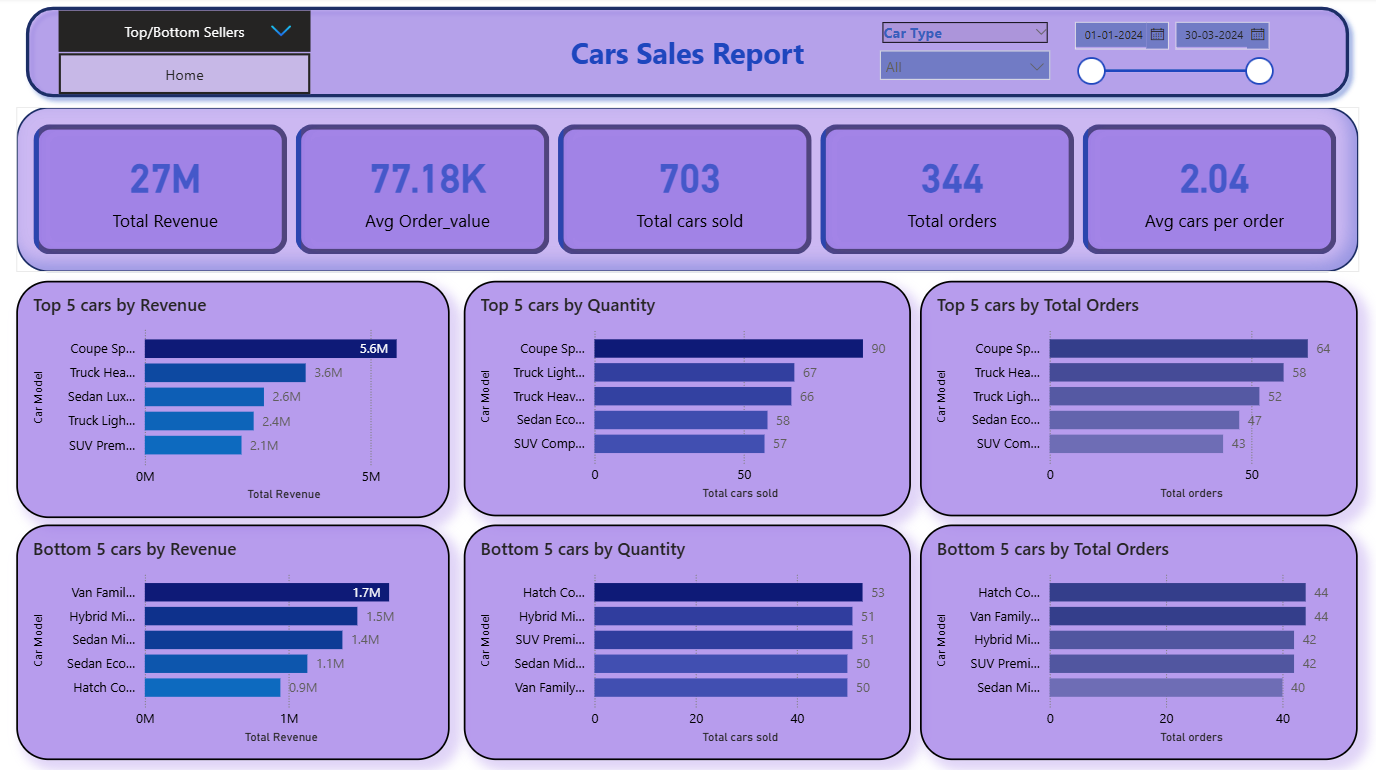

Layout of this report page (visuals, bound fields, positions):
{"tool":"powerbi","page":{"name":"Top/Bottom Sellers","canvas":[1280,720],"ordinal":1},"visuals":[{"type":"cardVisual","fields":{"Data":["car_sales car_sales_data.Total Revenue","car_sales car_sales_data.Avg Order_value","car_sales car_sales_data.Total cars sold","car_sales car_sales_data.Total orders","car_sales car_sales_data.Avg cars per order"]},"box":[15.1,102.3,1248.8,153.5],"z":0},{"type":"shape","box":[15.1,0,1248.8,102.3],"z":1000},{"type":"slicer","fields":{"Values":["car_sales car_sales_data.car_type"]},"box":[808.1,18.6,179.1,65.1],"z":2000},{"type":"slicer","fields":{"Values":["car_sales car_sales_data.order_date"]},"box":[987.2,12.8,205.8,77.9],"z":3000},{"type":"barChart","title":"Top 5  cars by Revenue","fields":{"Y":["car_sales car_sales_data.Total Revenue"],"Category":["car_sales car_sales_data.car_model_name"]},"box":[15.1,263.5,403.4,220.9],"z":4000},{"type":"barChart","title":"Bottom 5  cars by Revenue","fields":{"Y":["car_sales car_sales_data.Total Revenue"],"Category":["car_sales car_sales_data.car_model_name"]},"box":[15.1,491.3,403.4,219.6],"z":5000},{"type":"barChart","title":"Top 5  cars by Quantity","fields":{"Category":["car_sales car_sales_data.car_model_name"],"Y":["car_sales car_sales_data.Total cars sold"]},"box":[430.9,263.5,415.8,219.6],"z":6000},{"type":"barChart","title":"Bottom 5  cars by Quantity","fields":{"Category":["car_sales car_sales_data.car_model_name"],"Y":["car_sales car_sales_data.Total cars sold"]},"box":[430.9,491.3,415.8,219.6],"z":7000},{"type":"barChart","title":"Top 5  cars by Total Orders","fields":{"Category":["car_sales car_sales_data.car_model_name"],"Y":["car_sales car_sales_data.Total orders"]},"box":[856.3,263.5,407.5,219.6],"z":8000},{"type":"barChart","title":"Bottom 5  cars by Total Orders","fields":{"Category":["car_sales car_sales_data.car_model_name"],"Y":["car_sales car_sales_data.Total orders"]},"box":[856.3,491.3,407.5,219.6],"z":9000},{"type":"pageNavigator","box":[54.9,12.3,234.6,38.4],"z":10000},{"type":"pageNavigator","box":[54.9,52.1,234.6,38.4],"z":11000},{"type":"image","box":[241.9,17.4,39.5,27.9],"z":11001}]}

Visuals, with their boxes in screenshot pixels (x1, y1, x2, y2), scaled from the page's 1280x720 canvas onto the 1376x770 screenshot:
cardVisual - car_sales car_sales_data.Total Revenue x car_sales car_sales_data.Avg Order_value: x1=16, y1=109, x2=1359, y2=274
shape: x1=16, y1=0, x2=1359, y2=109
slicer - car_sales car_sales_data.car_type: x1=869, y1=20, x2=1061, y2=90
slicer - car_sales car_sales_data.order_date: x1=1061, y1=14, x2=1282, y2=97
"Top 5  cars by Revenue" barChart: x1=16, y1=282, x2=450, y2=518
"Bottom 5  cars by Revenue" barChart: x1=16, y1=525, x2=450, y2=760
"Top 5  cars by Quantity" barChart: x1=463, y1=282, x2=910, y2=517
"Bottom 5  cars by Quantity" barChart: x1=463, y1=525, x2=910, y2=760
"Top 5  cars by Total Orders" barChart: x1=921, y1=282, x2=1359, y2=517
"Bottom 5  cars by Total Orders" barChart: x1=921, y1=525, x2=1359, y2=760
pageNavigator: x1=59, y1=13, x2=311, y2=54
pageNavigator: x1=59, y1=56, x2=311, y2=97
image: x1=260, y1=19, x2=303, y2=48
